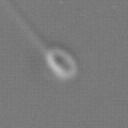normal: (6, 1, 47, 52)
